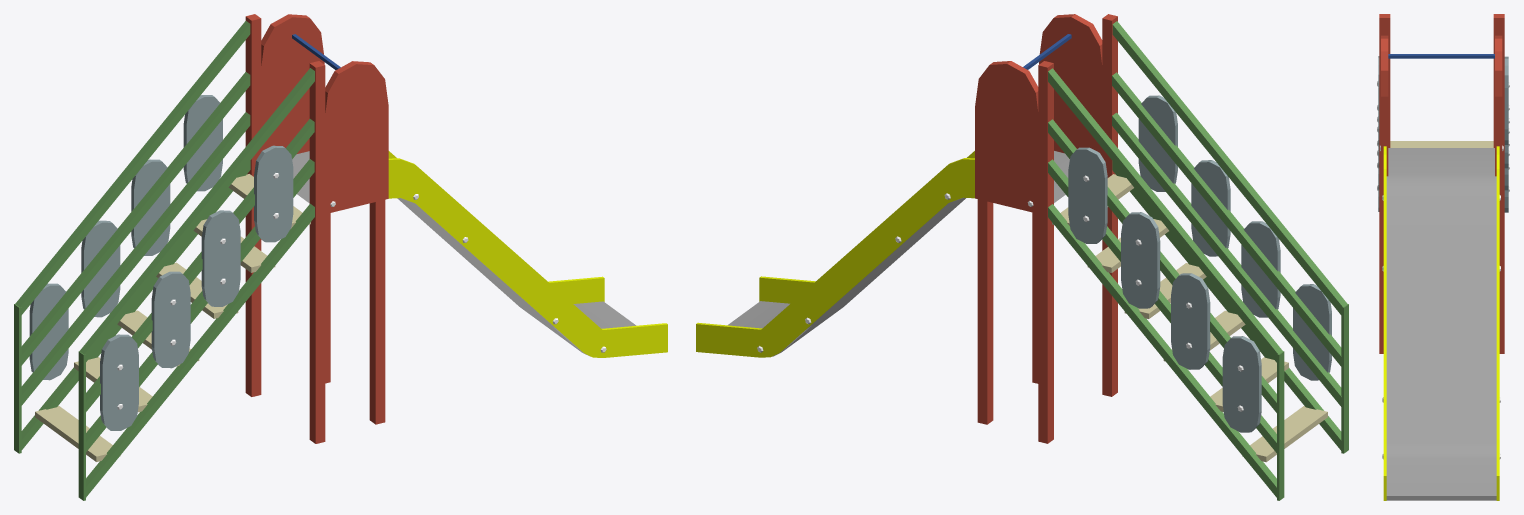
The model's file is slide.glb.
3 renders of one model, left to right at view 1: azimuth 30°, elevation 25°; view 2: azimuth 150°, elevation 25°; view 3: azimuth 270°, elevation 25°, orthographic. The views are drawn at different scales.
Parts seen in each view (by area): view 1: SM_Playground_05; view 2: SM_Playground_05; view 3: SM_Playground_05.
Part boxes in pixels (box(x1,y1,x2,y2)): SM_Playground_05: box(14, 14, 667, 500); SM_Playground_05: box(696, 14, 1348, 500); SM_Playground_05: box(1377, 14, 1509, 500).
Size of the model in its own units: 3.04 by 1.87 by 0.6694.
Materials: 1 (1 with a texture image).
